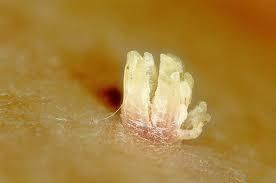Warts: (111, 36, 217, 159)
